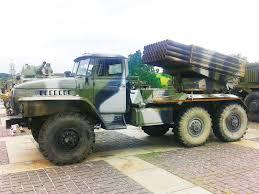MIL_SAM_TEL: (12, 37, 254, 166)
